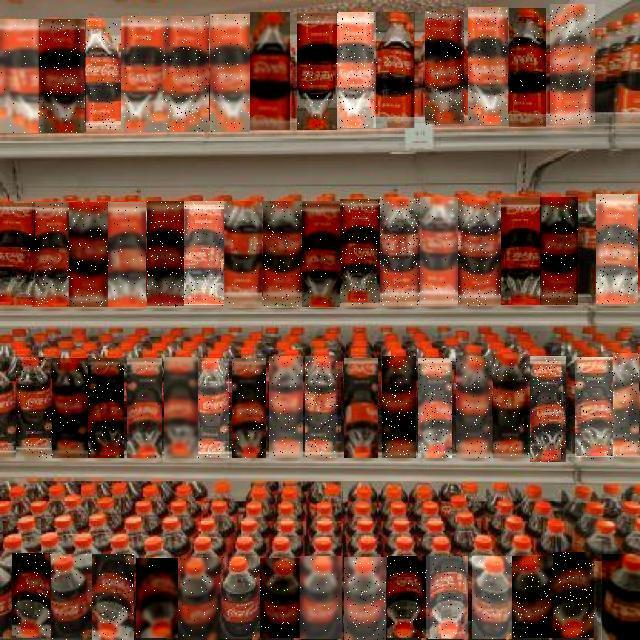Drinks: (550, 5, 595, 125), (121, 17, 167, 133), (163, 16, 209, 132), (0, 19, 46, 133), (40, 19, 86, 133), (82, 19, 124, 133), (210, 14, 250, 132), (250, 12, 290, 130), (297, 12, 337, 130), (469, 7, 509, 125), (338, 12, 378, 128), (378, 12, 418, 128), (596, 194, 638, 304), (426, 12, 466, 126), (458, 199, 500, 307), (509, 8, 546, 127), (501, 197, 541, 305), (380, 198, 420, 306), (340, 200, 380, 306), (184, 202, 224, 308), (33, 202, 73, 307), (69, 202, 109, 307), (263, 202, 302, 308), (223, 202, 262, 308), (540, 197, 578, 305), (420, 198, 458, 306), (302, 201, 340, 307), (108, 202, 146, 307), (575, 358, 614, 460), (147, 202, 184, 308), (531, 356, 567, 462), (494, 354, 530, 458), (456, 357, 492, 459), (16, 358, 52, 460), (554, 553, 596, 639), (92, 554, 134, 640), (88, 359, 124, 459), (52, 359, 88, 459), (0, 203, 35, 305), (127, 359, 162, 459), (220, 556, 262, 639), (301, 556, 343, 639), (345, 557, 387, 640), (269, 357, 303, 459), (306, 357, 340, 459), (382, 356, 416, 458), (388, 556, 430, 638), (512, 556, 554, 638), (178, 558, 220, 640), (260, 559, 303, 639), (52, 554, 92, 640), (345, 359, 379, 459), (419, 359, 453, 459), (13, 553, 53, 638), (232, 359, 266, 459), (198, 359, 232, 459), (164, 358, 198, 458), (136, 559, 178, 639), (429, 556, 469, 639), (473, 556, 513, 639), (602, 554, 640, 640), (613, 353, 639, 456)
